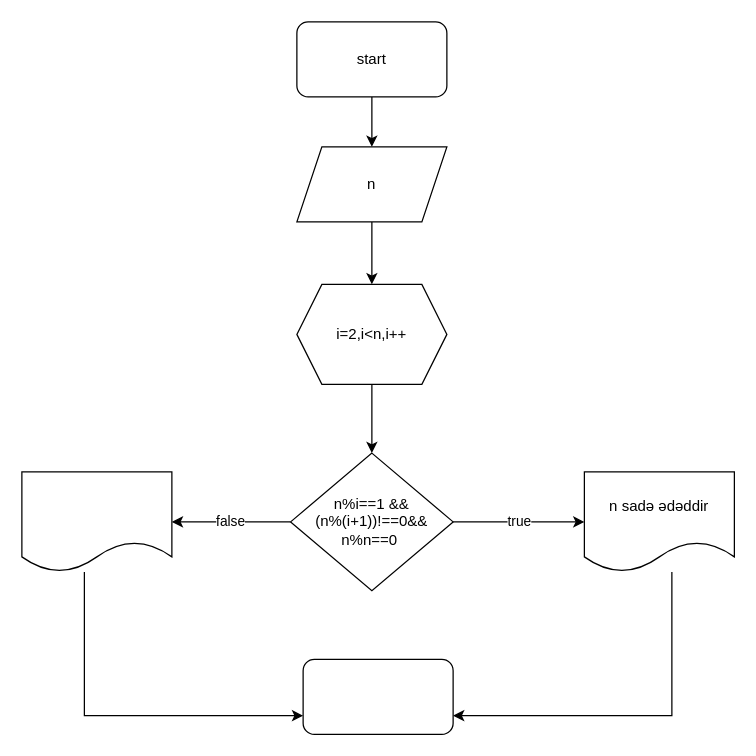
The diagram is 756 pixels wide and 756 high, and some of its shapes have lost their labels. The centre of each missing label's shape, as x and y in pixels:
end: (x=377, y=696)
n mürəkkəb ədəddir: (x=96, y=521)
